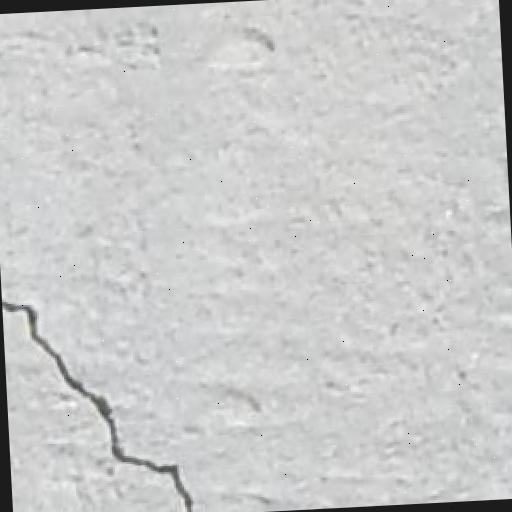spalling: (5, 278, 207, 512)
